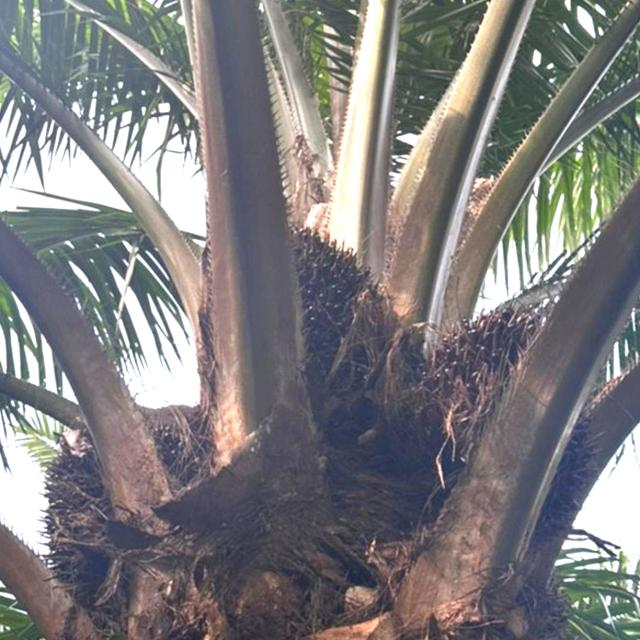unripe: (197, 226, 398, 446), (426, 307, 609, 544), (39, 411, 218, 605)
